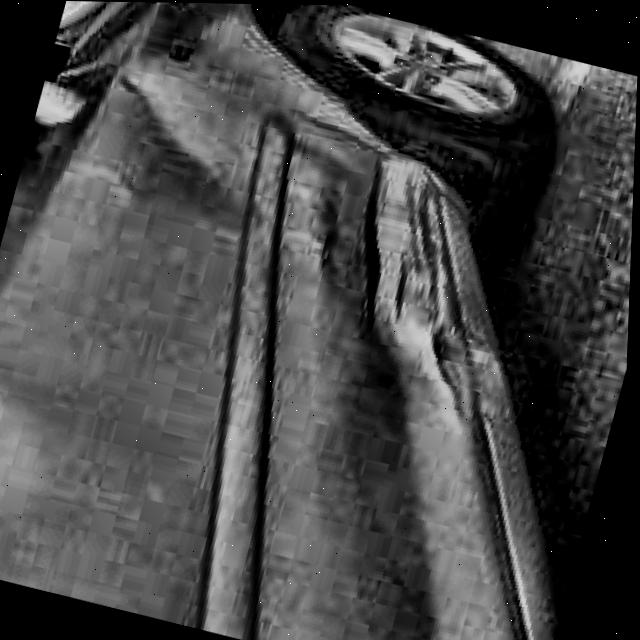door_dent: (302, 148, 561, 425), (86, 61, 285, 249)
